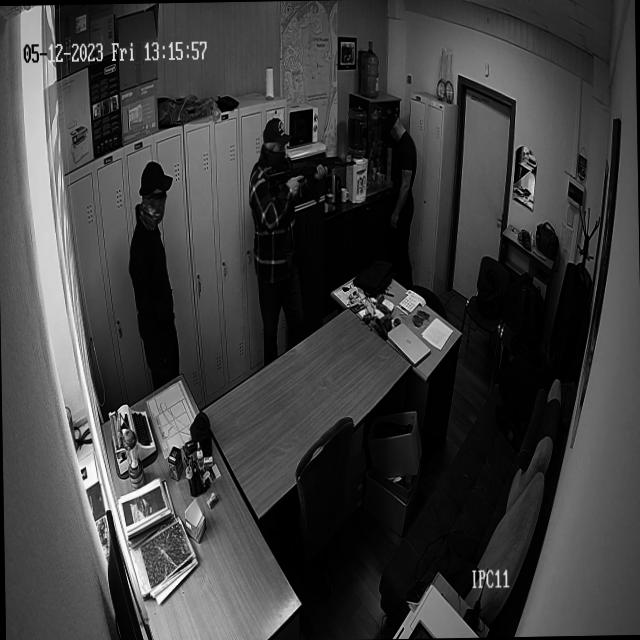gun: (262, 152, 356, 202)
person: (125, 155, 182, 371), (381, 107, 417, 255)
person with a gun: (242, 115, 360, 268)
